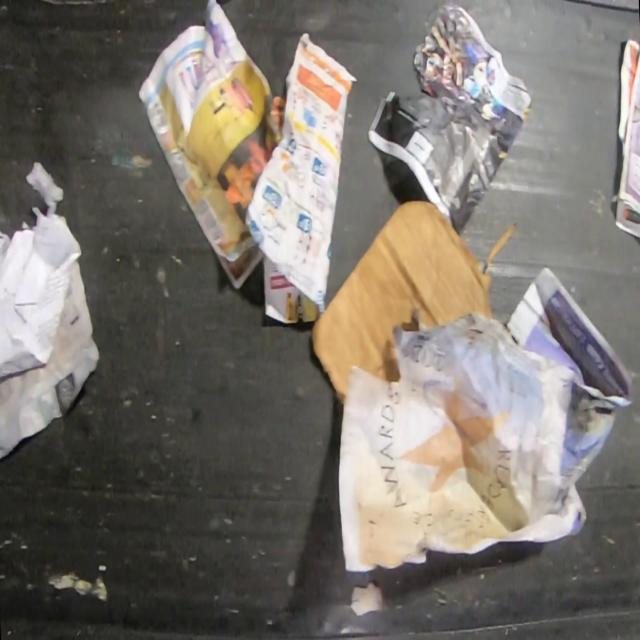cardboard: (310, 199, 516, 404)
